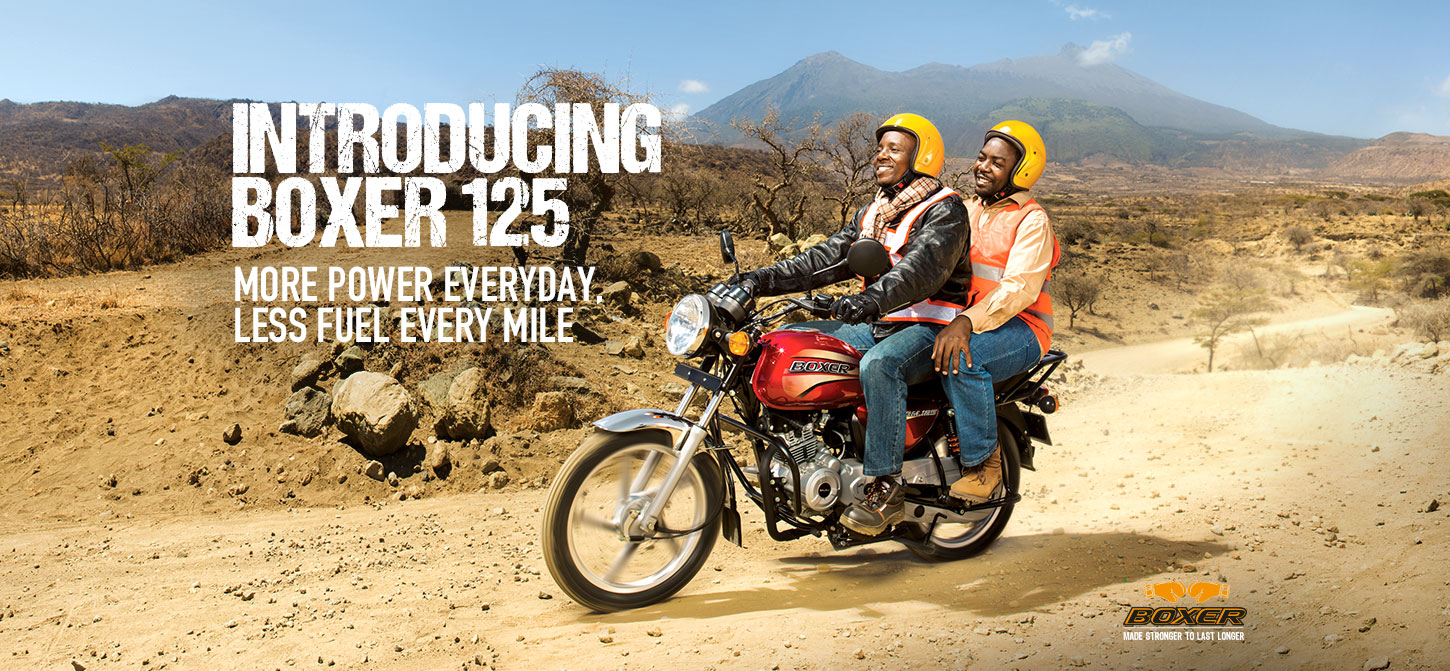motorbike: (578, 229, 1092, 622)
